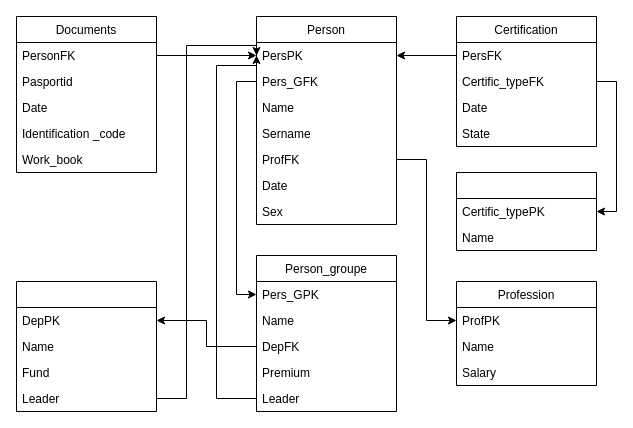
Some shapes in this 633 by 428 pixel diagram are drawn without their labels. The shapes that lost their labels are listed below. From the top down, each one's box as (x1, y1, x2, y2) in pixels, then its label:
(456, 172, 596, 250): Certification_type
(16, 280, 156, 412): Department
